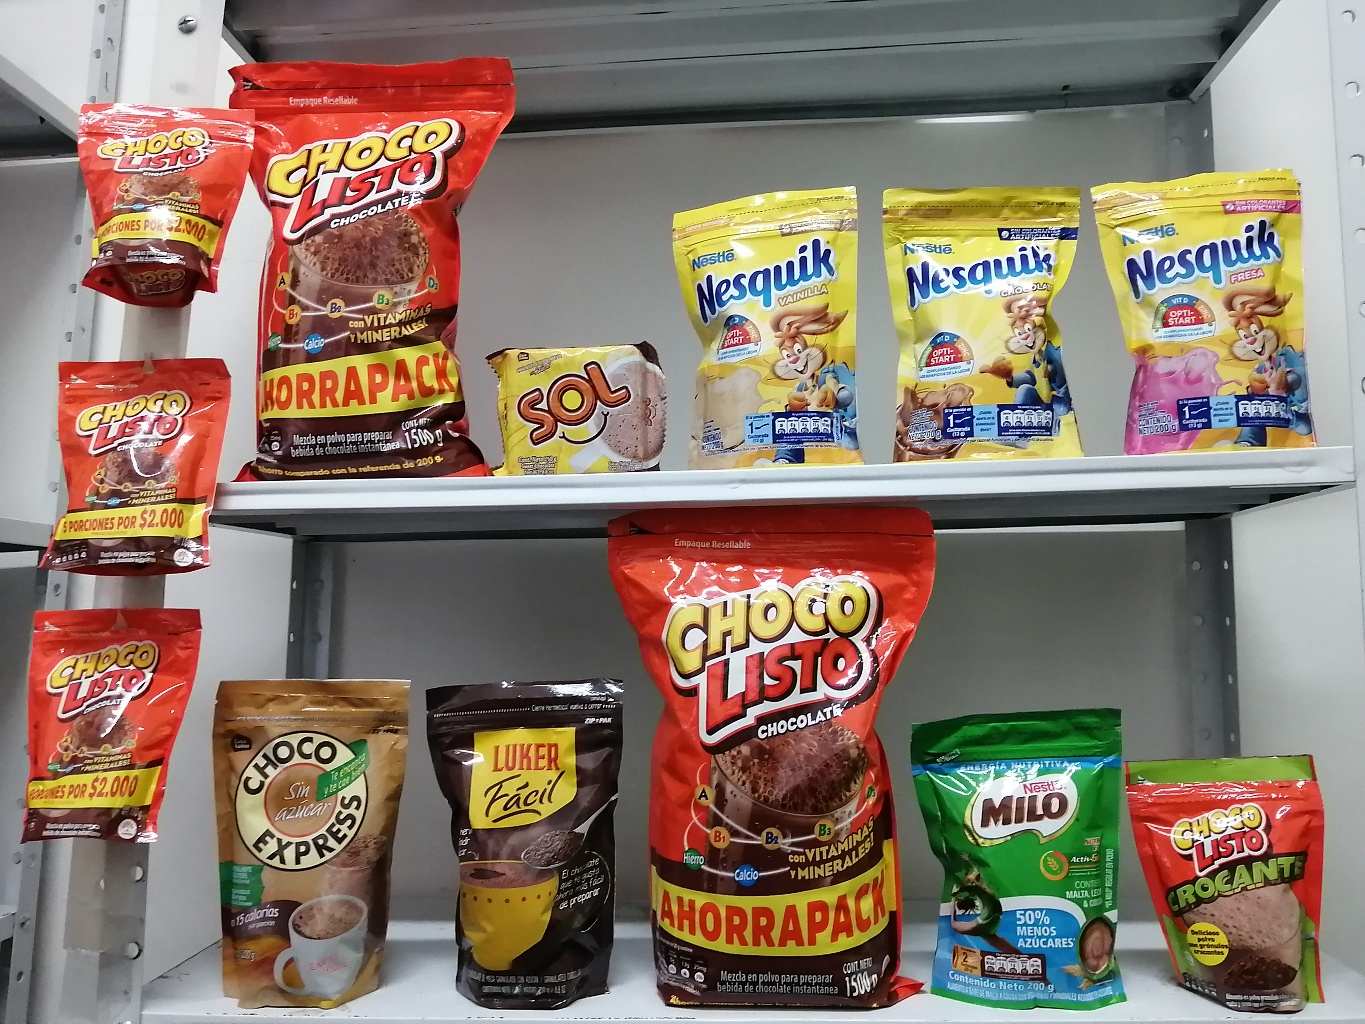COL0170102DYP10000: (1124, 734, 1347, 1021)
COL0170103DYP1,500: (222, 45, 514, 474)
COL0170103DYP10000: (17, 599, 208, 848)
COL0170205DYP20000: (908, 701, 1133, 1024)
COL0170303DYP20000: (870, 155, 1103, 459)
COL0170305DYP20000: (1099, 161, 1330, 454)
COL0170306DYP20000: (657, 174, 864, 468)
